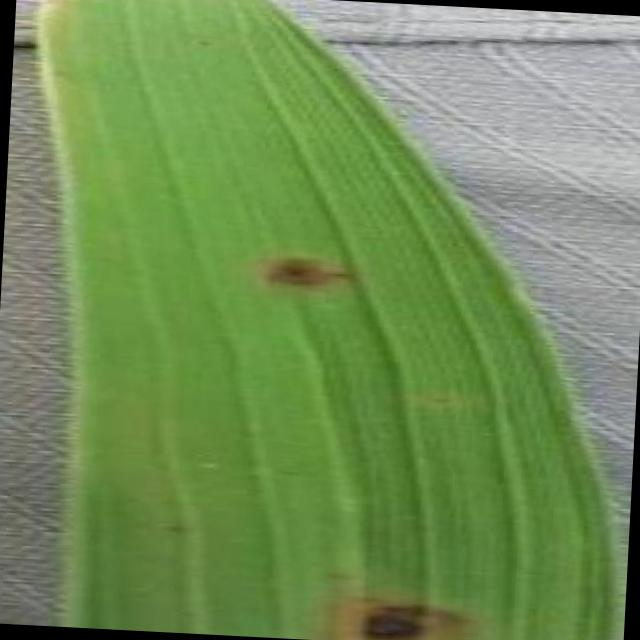Rice_Brownspot: (246, 237, 367, 301), (390, 588, 470, 631), (343, 603, 430, 640), (155, 512, 201, 542), (268, 458, 308, 486), (416, 384, 455, 412), (187, 27, 220, 52), (348, 588, 386, 608), (316, 566, 356, 584), (42, 62, 73, 83)
